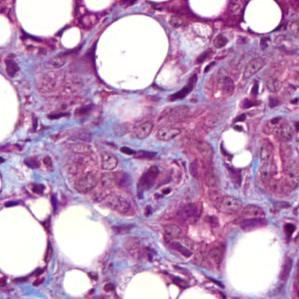steatosis: (89, 12, 172, 93)
